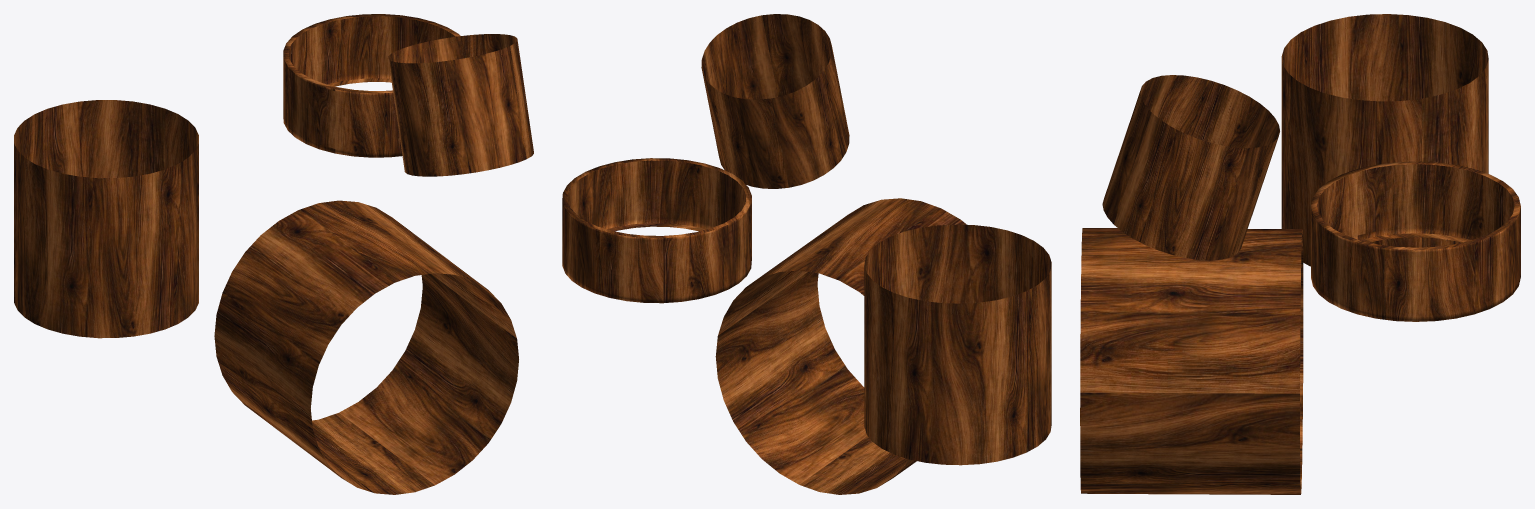
Rendered from cuerpos.glb.
3 renders of one model, left to right at view 1: azimuth 30°, elevation 25°; view 2: azimuth 150°, elevation 25°; view 3: azimuth 270°, elevation 25°, orthographic. The views are drawn at different scales.
Visible parts, largest first — view 1: 18, 14, 10, Circle.061; view 2: 14, 18, Circle.061, 10; view 3: 18, 14, Circle.061, 10.
Part boxes in pixels (bbox=[...]): 18: bbox=[214, 200, 518, 494]; 14: bbox=[14, 100, 198, 338]; 10: bbox=[388, 34, 533, 176]; Circle.061: bbox=[283, 14, 460, 157]; 14: bbox=[864, 224, 1051, 465]; 18: bbox=[715, 198, 966, 494]; Circle.061: bbox=[562, 158, 751, 303]; 10: bbox=[701, 14, 849, 188]; 18: bbox=[1080, 228, 1303, 494]; 14: bbox=[1281, 14, 1488, 266]; Circle.061: bbox=[1311, 161, 1520, 321]; 10: bbox=[1102, 75, 1279, 260].
Bounding box in the file's own units: 0.8896 × 0.7536 × 0.6822.
Materials: 1 (1 with a texture image).
